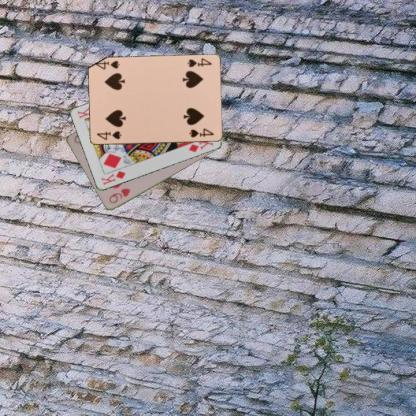4s: (185, 55, 213, 69), (94, 129, 123, 141)
9h: (106, 186, 132, 206)
Kd: (98, 168, 127, 186)
